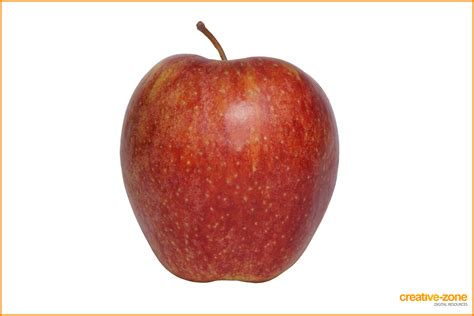apple: (120, 20, 341, 289)
